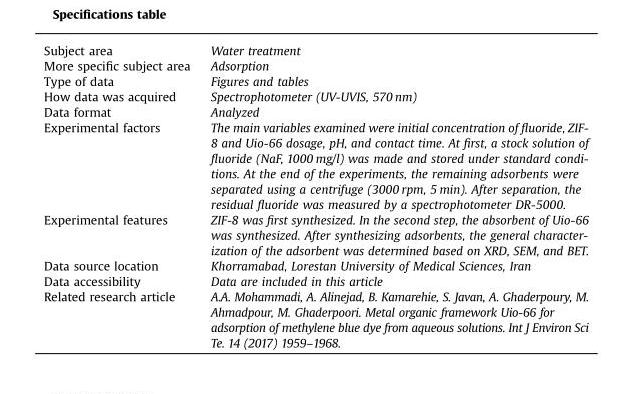table: (43, 42, 587, 349)
table column: (199, 42, 587, 349), (43, 42, 199, 349)
table row: (43, 119, 587, 211), (43, 288, 587, 349), (43, 211, 587, 257), (43, 57, 587, 73), (43, 103, 587, 119), (43, 272, 587, 288), (43, 42, 587, 57), (43, 73, 587, 88), (43, 88, 587, 103), (43, 257, 587, 272)
